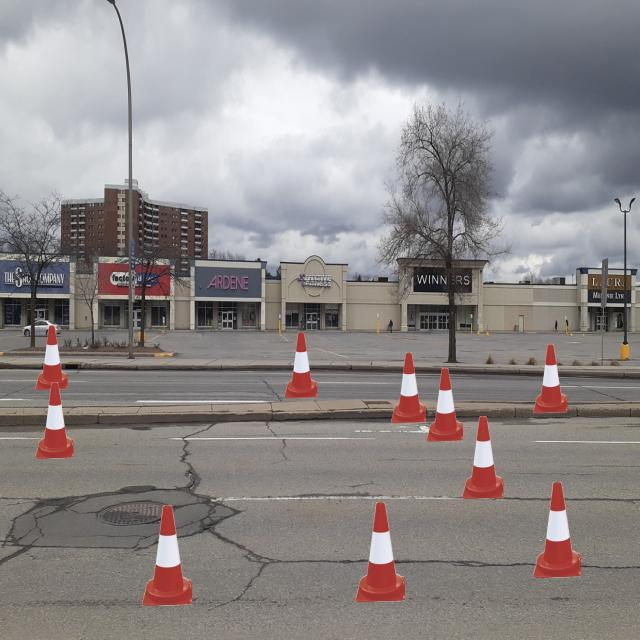orange_cone: (142, 505, 192, 606), (355, 502, 405, 602), (533, 482, 581, 578), (462, 416, 503, 499), (36, 382, 74, 459), (427, 368, 463, 441), (391, 353, 426, 423), (534, 344, 568, 413), (284, 332, 318, 398), (36, 325, 68, 390)
